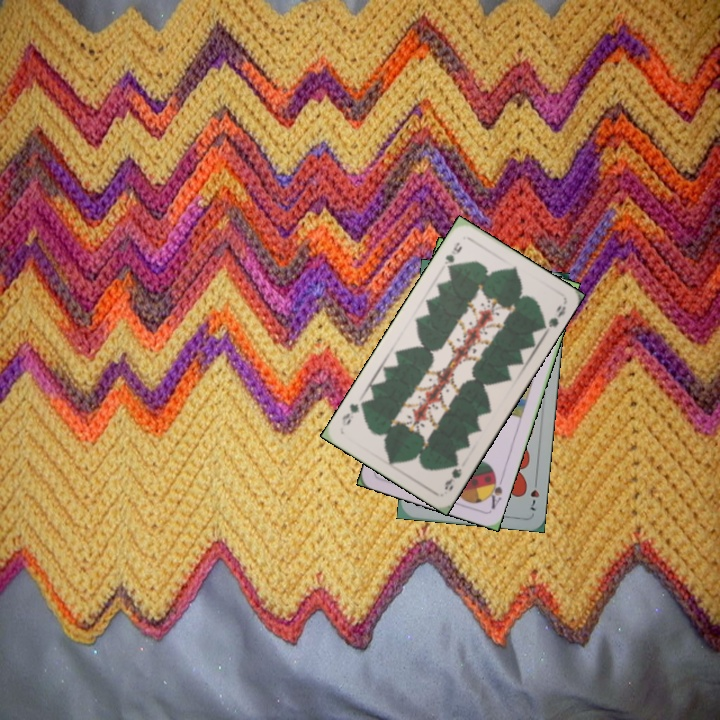G9: (440, 455, 464, 493), (440, 238, 465, 274)
H7: (526, 474, 542, 513)
SA: (482, 470, 506, 512)
